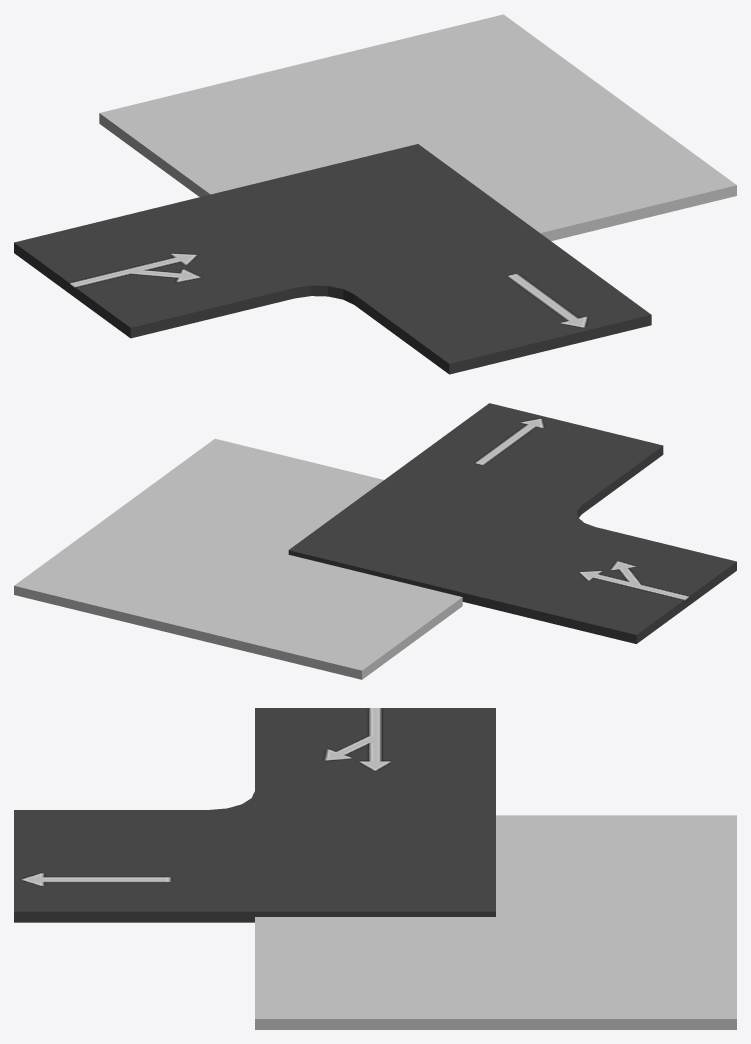
File: SM_Factory_Parking_Corner_Road_01.fbx
3 renders of one model, top to bottom at view 1: azimuth 30°, elevation 25°; view 2: azimuth 150°, elevation 25°; view 3: azimuth 270°, elevation 25°, orthographic. The views are drawn at different scales.
Parts seen in each view (by area): view 1: SM_Factory_Parking_Corner_Road_01, SM_Factory_Parking_Corner_Road_01_ConvexHulls; view 2: SM_Factory_Parking_Corner_Road_01, SM_Factory_Parking_Corner_Road_01_ConvexHulls; view 3: SM_Factory_Parking_Corner_Road_01_ConvexHulls, SM_Factory_Parking_Corner_Road_01.
Boxes of the visible parts, box(x1,y1,x2,y2) form: SM_Factory_Parking_Corner_Road_01: box(14, 144, 651, 374); SM_Factory_Parking_Corner_Road_01_ConvexHulls: box(99, 14, 736, 241); SM_Factory_Parking_Corner_Road_01: box(288, 403, 736, 643); SM_Factory_Parking_Corner_Road_01_ConvexHulls: box(14, 438, 462, 679); SM_Factory_Parking_Corner_Road_01_ConvexHulls: box(255, 815, 736, 1029); SM_Factory_Parking_Corner_Road_01: box(14, 708, 495, 922).
Bounding box in the file's own units: 1500 × 1500 × 37.63.
2 materials, 1 textured.
